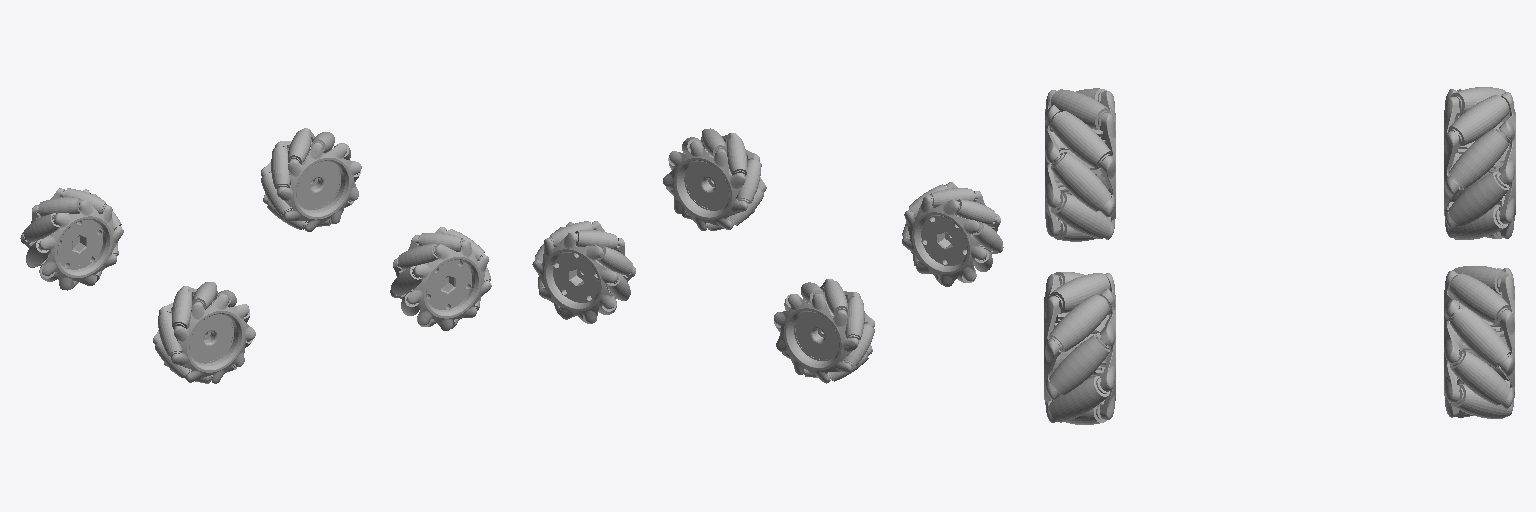
The robot description file, URDF, robot "rovi":
<?xml version="1.0"?>
<robot name="rovi">
  <material name="Green">
    <color rgba="0 0.7 0 1"/>
  </material>
  <material name="White">
    <color rgba="0.7 0.7 0.7 1"/>
  </material>

  <link name="base_footprint"/>
  <link name="imu_link"/>

  <link name="base_link">
    <inertial>
      <origin xyz="0.00498197982182523 0.0000570233829969297 -0.0121008098068578" rpy="0 0 0"/>
      <mass value="0.486218814966626"/>
      <inertia ixx="0.00196277727666921" ixy="0.000000250447049446755" ixz="0.000140534767811098"
               iyy="0.00457256033711368" iyz="0.000000268618064993882" izz="0.00493927269870476"/>
    </inertial>
    <visual>
      <origin xyz="0 0 0" rpy="0 0 0"/>
      <geometry>
        <mesh filename="package://rovi_description/meshes/mecanum/chassis.stl"/>
      </geometry>
      <material name="Green"/>
    </visual>
    <collision>
      <origin xyz="0 0 0" rpy="0 0 0"/>
      <geometry>
        <mesh filename="package://rovi_description/meshes/mecanum/chassis.stl"/>
      </geometry>
    </collision>
  </link>

  <joint name="base_joint" type="fixed">
    <parent link="base_footprint"/>
    <child link="base_link"/>
    <origin xyz="0.0 0.0 0.029" rpy="0 0 0"/>
  </joint>

  <joint name="base_imu" type="fixed">
    <parent link="base_link"/>
    <child link="imu_link"/>
    <origin xyz="0.06 0.03 0.01" rpy="0 0 0"/>
  </joint>

  <link name="front_right_wheel">
    <inertial>
      <origin xyz="0.0000019051 -0.00000023183 -0.00064079" rpy="0 0 0"/>
      <mass value="0.051532"/>
      <inertia ixx="0.000014595" ixy="-0.00000000043975" ixz="0.0000000004415"
               iyy="0.000014594" iyz="-0.0000000017476" izz="0.000024264"/>
    </inertial>
    <visual>
      <origin xyz="0 0 0" rpy="0 0 0"/>
      <geometry>
        <mesh filename="package://rovi_description/meshes/mecanum/wheel_RL_FR.stl"/>
      </geometry>
      <material name="White"/>
    </visual>
    <collision>
      <origin xyz="0 0 0" rpy="0 0 0"/>
      <geometry>
        <mesh filename="package://rovi_description/meshes/mecanum/wheel_RL_FR.stl"/>
      </geometry>
    </collision>
  </link>

  <joint name="front_right_joint" type="continuous">
    <parent link="base_link"/>
    <child link="front_right_wheel"/>
    <origin xyz="0.13902 -0.10414 0.010269" rpy="-1.57079632679 0 3.14159265359"/>
    <axis xyz="0 0 1"/>
    <limit lower="-3.14159265359" upper="3.14159265359" effort="100" velocity="1"/>
  </joint>

  <link name="front_left_wheel">
    <inertial>
      <origin xyz="0.0000023728 -0.00000094228 0.00064068" rpy="0 0 0"/>
      <mass value="0.051543"/>
      <inertia ixx="0.000014597" ixy="-0.00000000047945" ixz="-0.00000000024786"
               iyy="0.000014598" iyz="0.0000000017972" izz="0.000024267"/>
    </inertial>
    <visual>
      <origin xyz="0 0 0" rpy="0 0 0"/>
      <geometry>
        <mesh filename="package://rovi_description/meshes/mecanum/wheel_RR_FL.stl"/>
      </geometry>
      <material name="White"/>
    </visual>
    <collision>
      <origin xyz="0 0 0" rpy="0 0 0"/>
      <geometry>
        <mesh filename="package://rovi_description/meshes/mecanum/wheel_RR_FL.stl"/>
      </geometry>
    </collision>
  </link>

  <joint name="front_left_joint" type="continuous">
    <parent link="base_link"/>
    <child link="front_left_wheel"/>
    <origin xyz="0.139 0.10406 0.0139" rpy="1.57079632679 0 0"/>
    <axis xyz="0 0 1"/>
    <limit lower="-3.14159265359" upper="3.14159265359" effort="100" velocity="1"/>
  </joint>

  <link name="back_right_wheel">
    <inertial>
      <origin xyz="-0.00000175924169923403 0.00000128388821071107 -0.000590549296238266" rpy="0 0 0"/>
      <mass value="0.051540174053366"/>
      <inertia ixx="0.0000145974152250002" ixy="0.000000000194850559178397" ixz="-0.00000000161846387282284"
               iyy="0.000014596501955693" iyz="-0.000000000627904057423818" izz="0.0000242663091380451"/>
    </inertial>
    <visual>
      <origin xyz="0 0 0" rpy="0 0 0"/>
      <geometry>
        <mesh filename="package://rovi_description/meshes/mecanum/wheel_RR_FL.stl"/>
      </geometry>
      <material name="White"/>
    </visual>
    <collision>
      <origin xyz="0 0 0" rpy="0 0 0"/>
      <geometry>
        <mesh filename="package://rovi_description/meshes/mecanum/wheel_RR_FL.stl"/>
      </geometry>
    </collision>
  </link>

  <joint name="back_right_joint" type="continuous">
    <parent link="base_link"/>
    <child link="back_right_wheel"/>
    <origin xyz="-0.080231 -0.1041 0.0135" rpy="-1.57079632679 0 3.14159265359"/>
    <axis xyz="0 0 1"/>
    <limit lower="-3.14159265359" upper="3.14159265359" effort="100" velocity="1"/>
  </joint>

  <link name="back_left_wheel">
    <inertial>
      <origin xyz="-0.000000401213085227115 0.00000204910264598596 0.000590775697051377" rpy="0 0 0"/>
      <mass value="0.0515309299357028"/>
      <inertia ixx="0.0000145942986129926" ixy="-0.000000000319787215398093" ixz="0.00000000174943062058915"
               iyy="0.0000145948727598913" iyz="0.000000000161769812110049" izz="0.000024263683888153"/>
    </inertial>
    <visual>
      <origin xyz="0 0 0" rpy="0 0 0"/>
      <geometry>
        <mesh filename="package://rovi_description/meshes/mecanum/wheel_RL_FR.stl"/>
      </geometry>
      <material name="White"/>
    </visual>
    <collision>
      <origin xyz="0 0 0" rpy="0 0 0"/>
      <geometry>
        <mesh filename="package://rovi_description/meshes/mecanum/wheel_RL_FR.stl"/>
      </geometry>
    </collision>
  </link>

  <joint name="back_left_joint" type="continuous">
    <parent link="base_link"/>
    <child link="back_left_wheel"/>
    <origin xyz="-0.08231 0.1041 0.0135" rpy="1.57079632679 0 0"/>
    <axis xyz="0 0 1"/>
    <limit lower="-3.14159265359" upper="3.14159265359" effort="100" velocity="1"/>
  </joint>

  <link name="laser_link">
    <visual>
      <origin xyz="0 0 0" rpy="0 0 -3.14159"/>
      <geometry>
        <mesh filename="package://rovi_description/meshes/sensor/laser_link.STL"/>
      </geometry>
      <material name="White"/>
    </visual>
    <collision>
      <origin xyz="0 0 0" rpy="0 0 0"/>
      <geometry>
        <mesh filename="package://rovi_description/meshes/sensor/laser_link.STL"/>
      </geometry>
    </collision>
  </link>

  <joint name="laser_joint" type="fixed">
    <parent link="base_link"/>
    <child link="laser_link"/>
    <origin xyz="0.129 0 0.1645" rpy="0 0 3.14159"/>
  </joint>

  <!-- Gazebo Sim extensions (ignored by robot_state_publisher / RViz) -->

  <!-- Holonomic base motion (X/Y + yaw) driven by gz.msgs.Twist on /model/<name>/cmd_vel -->
  <gazebo>
    <plugin filename="gz-sim-velocity-control-system" name="gz::sim::systems::VelocityControl"/>
  </gazebo>

  <!-- Simulated LiDAR publishing on Gazebo Transport topic /rovi/scan -->
  <gazebo reference="laser_link">
    <sensor name="rovi_lidar" type="gpu_lidar">
      <always_on>true</always_on>
      <visualize>true</visualize>
      <update_rate>10</update_rate>
      <topic>/rovi/scan</topic>
      <gz_frame_id>laser_link</gz_frame_id>
      <ray>
        <scan>
          <horizontal>
            <samples>360</samples>
            <resolution>1</resolution>
            <min_angle>0.0</min_angle>
            <max_angle>6.28318530718</max_angle>
          </horizontal>
        </scan>
        <range>
          <min>0.05</min>
          <max>12.0</max>
          <resolution>0.01</resolution>
        </range>
        <noise>
          <type>gaussian</type>
          <mean>0.0</mean>
          <stddev>0.01</stddev>
        </noise>
      </ray>
    </sensor>
  </gazebo>

  <!-- Simulated IMU publishing on Gazebo Transport topic /rovi/imu -->
  <gazebo reference="imu_link">
    <sensor name="rovi_imu" type="imu">
      <always_on>true</always_on>
      <visualize>false</visualize>
      <update_rate>100</update_rate>
      <topic>/rovi/imu</topic>
      <gz_frame_id>imu_link</gz_frame_id>
    </sensor>
  </gazebo>
</robot>

--- Facts derived from the render (not from the file) ---
Views: 3 orthographic renders of the robot side by side, from view 1: azimuth 30°, elevation 25°; view 2: azimuth 150°, elevation 25°; view 3: azimuth 270°, elevation 25°.
Model rovi with 8 links and 7 joints (4 continuous, 3 fixed), rooted at base_footprint, posed all joints at 0.
Links seen in each view (by area): view 1: front_right_wheel, front_left_wheel, back_right_wheel, back_left_wheel; view 2: back_right_wheel, back_left_wheel, front_right_wheel, front_left_wheel; view 3: front_right_wheel, back_left_wheel, front_left_wheel, back_right_wheel.
Link boxes in pixels (x1,y1,x2,y2): front_right_wheel: (390,227,491,330); front_left_wheel: (261,128,361,231); back_right_wheel: (153,282,255,383); back_left_wheel: (20,188,123,290); back_right_wheel: (902,182,1003,286); back_left_wheel: (774,279,874,383); front_right_wheel: (663,128,766,230); front_left_wheel: (532,221,635,323); front_right_wheel: (1044,272,1115,424); back_left_wheel: (1444,87,1515,239); front_left_wheel: (1444,266,1514,418); back_right_wheel: (1045,88,1115,241).
Size in the robot's own frame: 0.3014 by 0.2456 by 0.0837 metres.
Meshes: 4 distinct files referenced, 4 mesh visuals loaded (2 binary STL); not drawn: 2 (reference not matched to a file when rendering).